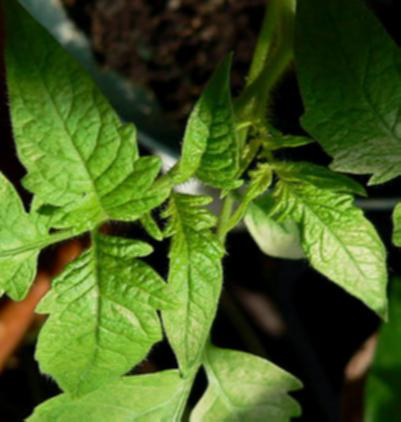Tomato leaf: (6, 7, 156, 247), (31, 225, 183, 403), (261, 153, 393, 319), (153, 188, 228, 387), (172, 52, 242, 193)
